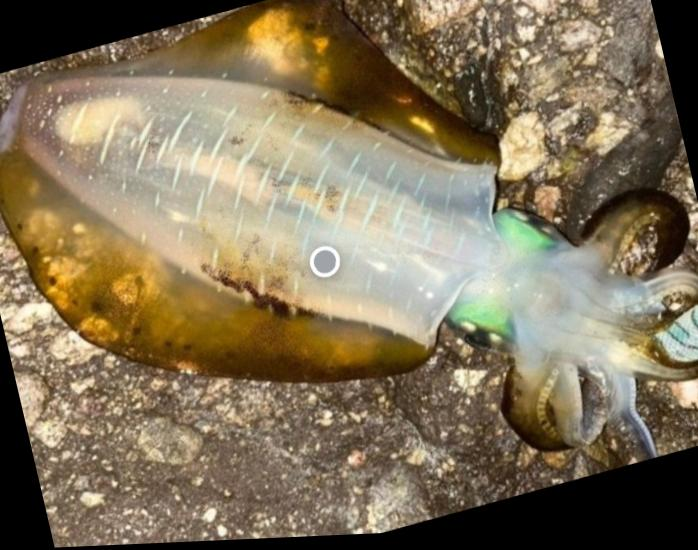Cephalopod: (0, 0, 698, 464)
